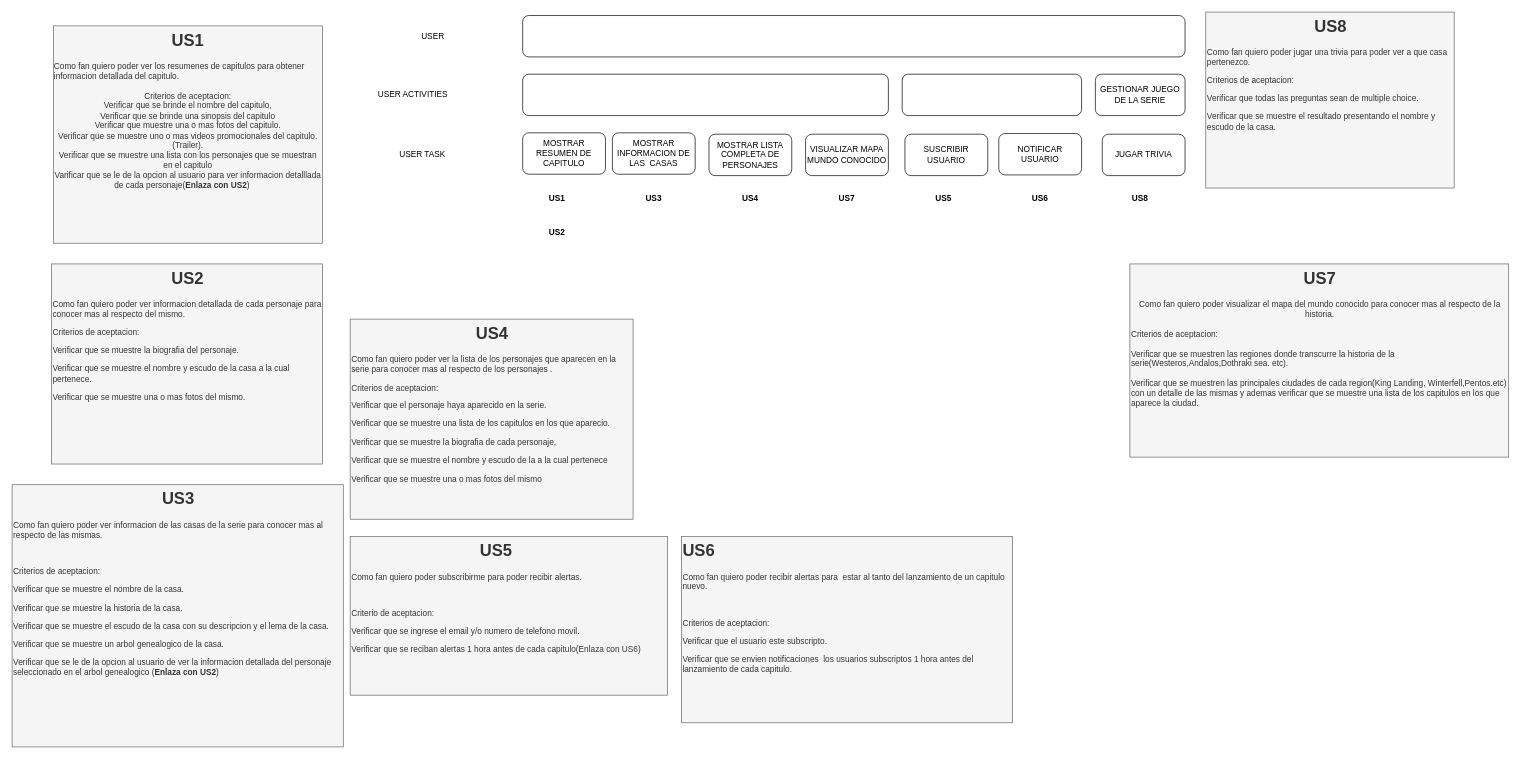
This 1521x761 diagram has some shape labels left out. The centre of each missing label's shape, as x and y in pixels:
FAN: point (853, 36)
GESTIONAR SUSBCRIPCIONES: point (991, 94)
MOSTRAR INFORMACION DE LA SERIE: point (705, 94)
